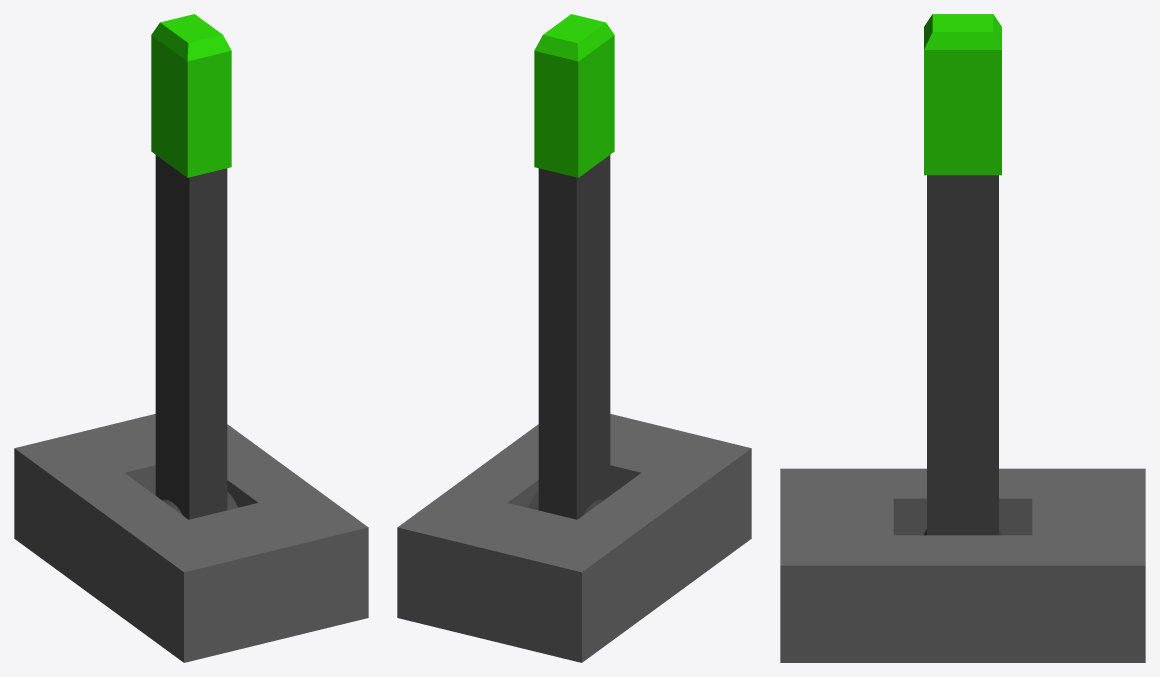
The model's file is GreenLeverWB.glb.
3 views of the same model, side by side, from view 1: azimuth 30°, elevation 25°; view 2: azimuth 150°, elevation 25°; view 3: azimuth 270°, elevation 25° (orthographic). The views are drawn at different scales.
Parts seen in each view (by area): view 1: Base, Handle, Top; view 2: Base, Handle, Top; view 3: Base, Handle, Top.
Boxes of the visible parts, x1,y1,x2,y2 form: Base: (14, 414, 368, 662); Handle: (155, 155, 237, 519); Top: (151, 14, 231, 177); Base: (397, 414, 751, 662); Handle: (528, 155, 610, 519); Top: (534, 14, 614, 177); Base: (780, 468, 1145, 662); Handle: (924, 175, 1001, 535); Top: (924, 14, 1001, 175).
Bounding box in the file's own units: 0.38 × 1.08 × 0.6054.
